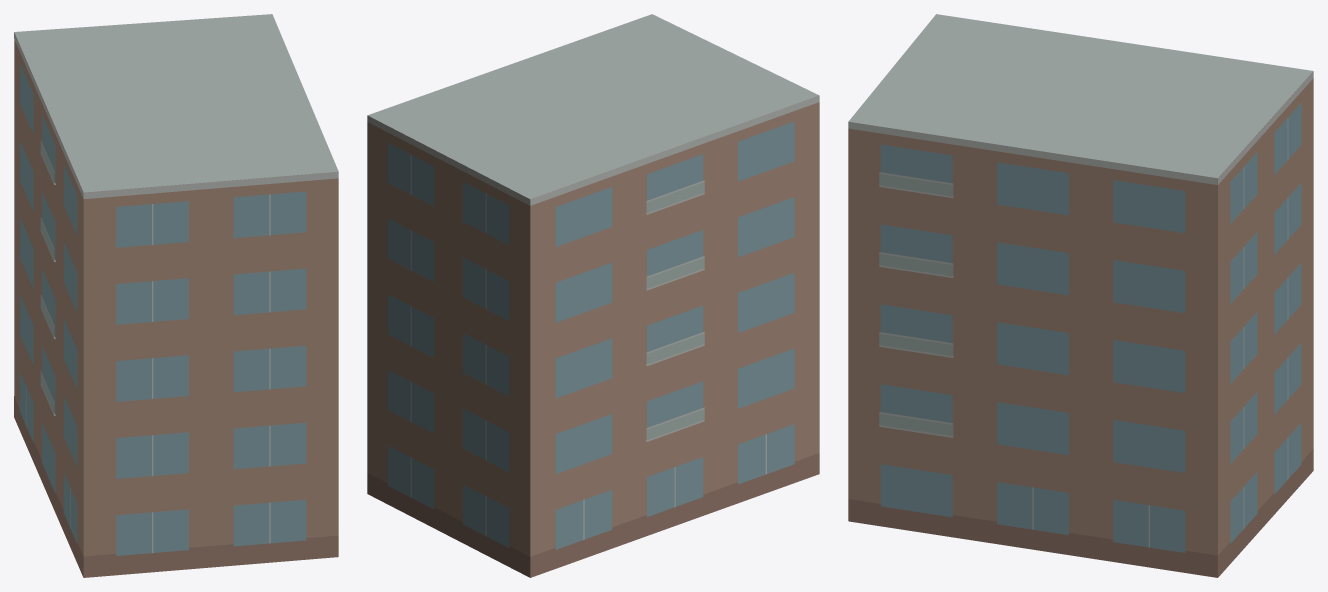
Rendered from survey-upis-32893412.glb.
3 renders of one model, left to right at view 1: azimuth 30°, elevation 25°; view 2: azimuth 150°, elevation 25°; view 3: azimuth 270°, elevation 25°, orthographic. The views are drawn at different scales.
Parts seen in each view (by area): view 1: survey-upis-32893412.tmp; view 2: survey-upis-32893412.tmp; view 3: survey-upis-32893412.tmp.
Part boxes in pixels (box(x1,y1,x2,y2)): survey-upis-32893412.tmp: box(14, 14, 338, 577); survey-upis-32893412.tmp: box(367, 14, 819, 577); survey-upis-32893412.tmp: box(848, 14, 1313, 577).
Size of the model in its own units: 12.53 by 14.2 by 15.
